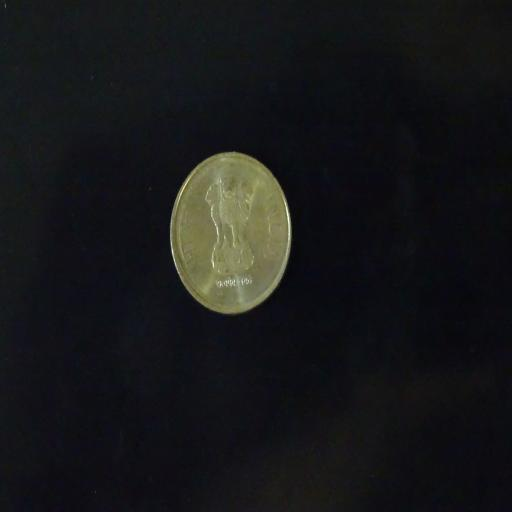rupee5: (168, 152, 294, 315)
